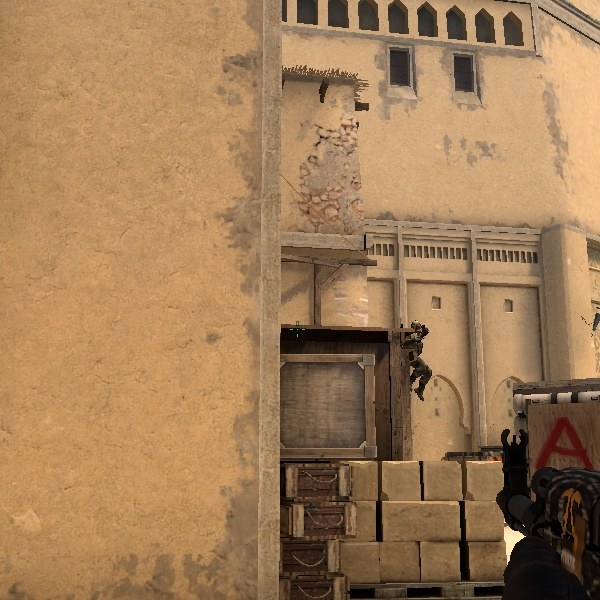t_body: (401, 314, 441, 399)
